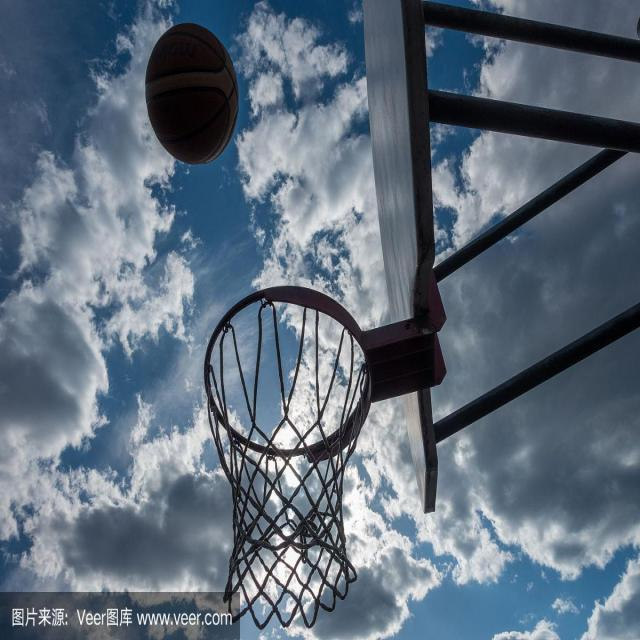rim: (145, 23, 239, 165)
